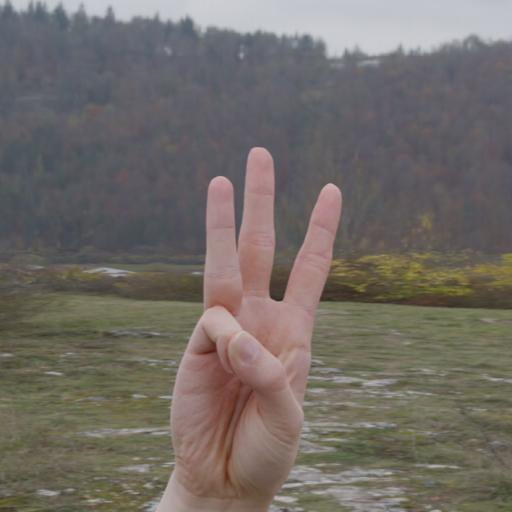W: (166, 139, 344, 493)
